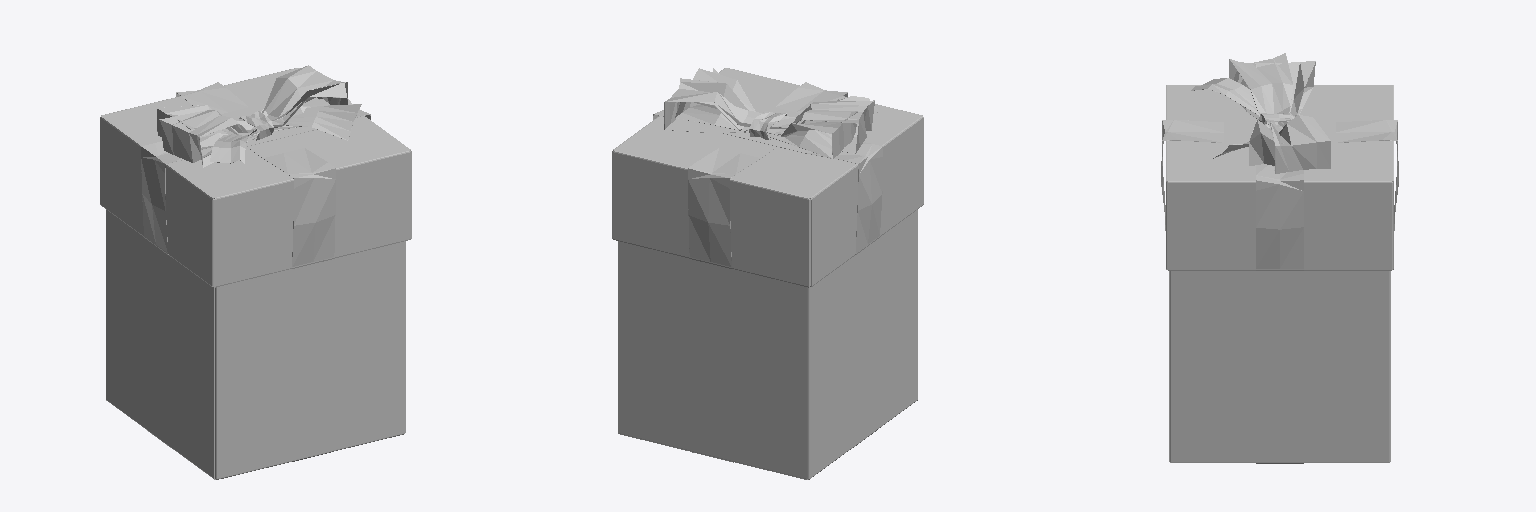
Rendered from mini-gift-box-001.obj.
The picture shows the model from 3 angles: view 1: azimuth 30°, elevation 25°; view 2: azimuth 150°, elevation 25°; view 3: azimuth 270°, elevation 25°; orthographic projection.
Visible parts, largest first — view 1: box.001_Cube.013, lid_Cube.011; view 2: box.001_Cube.013, lid_Cube.011; view 3: lid_Cube.011, box.001_Cube.013.
Boxes of the visible parts, x1=… form: box.001_Cube.013: x1=106, y1=210, x2=405, y2=479; lid_Cube.011: x1=100, y1=65, x2=411, y2=287; box.001_Cube.013: x1=618, y1=210, x2=917, y2=479; lid_Cube.011: x1=612, y1=68, x2=923, y2=287; lid_Cube.011: x1=1161, y1=53, x2=1398, y2=270; box.001_Cube.013: x1=1169, y1=271, x2=1390, y2=463.
Bounding box in the file's own units: 0.0774 × 0.1148 × 0.0769.